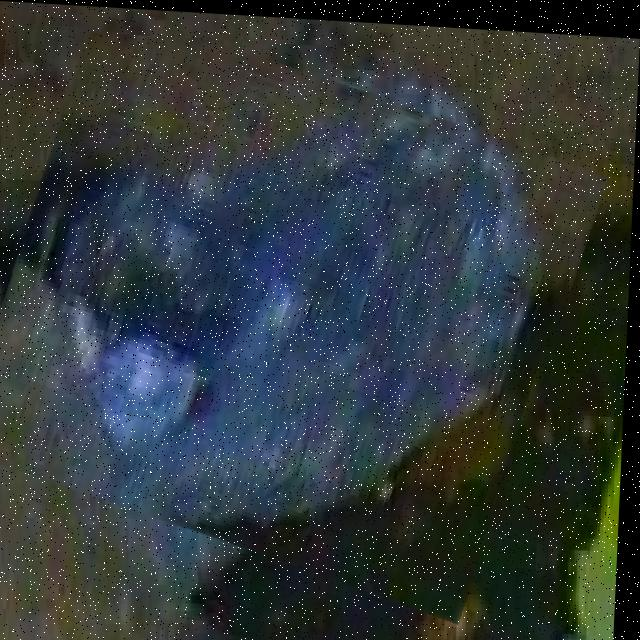litter: (0, 26, 587, 591)
